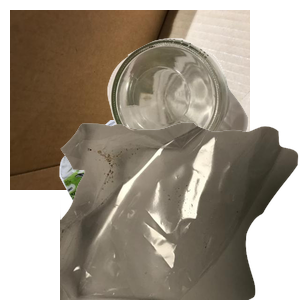cardboard: (10, 10, 250, 190)
glass: (105, 36, 300, 201)
plastic: (57, 120, 293, 300)
trash: (60, 120, 300, 300)
